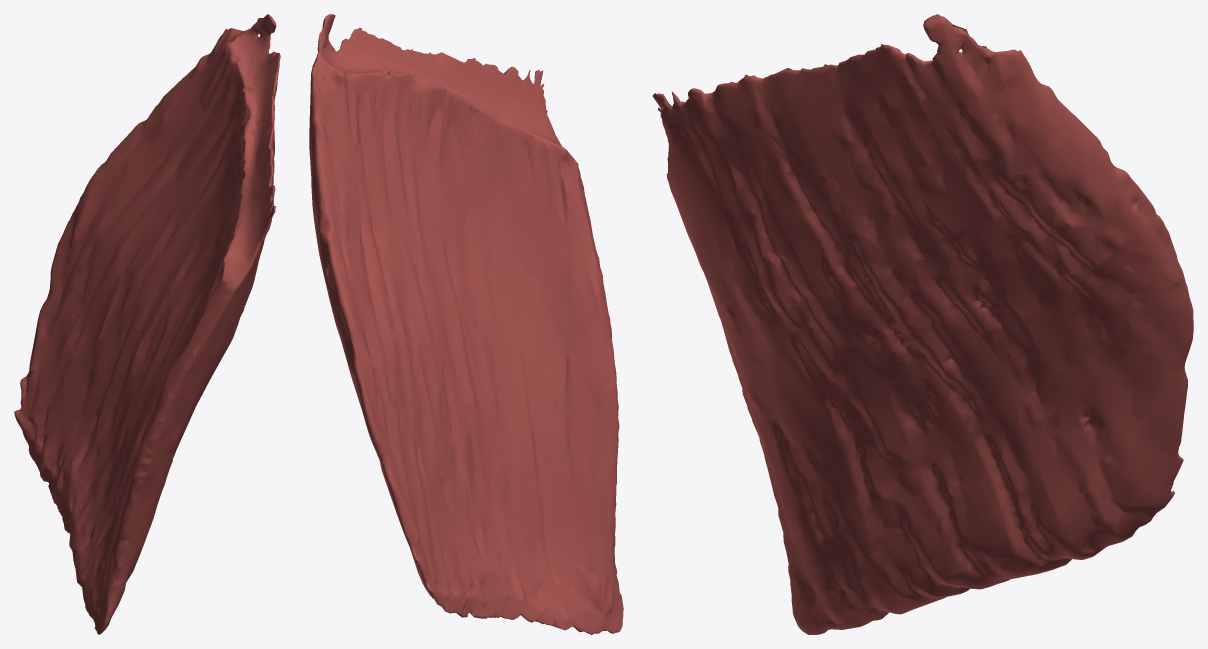
The model's file is FMA49005.glb.
3 renders of one model, left to right at view 1: azimuth 30°, elevation 25°; view 2: azimuth 150°, elevation 25°; view 3: azimuth 270°, elevation 25°, orthographic. The views are drawn at different scales.
Visible parts, largest first — view 1: FMA49005; view 2: FMA49005; view 3: FMA49005.
Boxes of the visible parts, x1,y1,x2,y2 form: FMA49005: (14,14,280,634); FMA49005: (309,14,623,634); FMA49005: (652,14,1193,634).
Bounding box in the file's own units: 0.0258 × 0.0601 × 0.0382.
